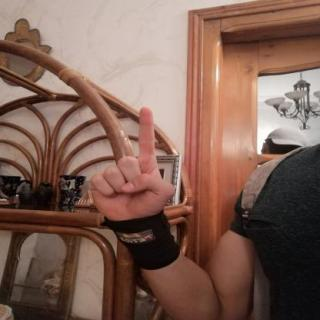BAA: (85, 101, 180, 233)
